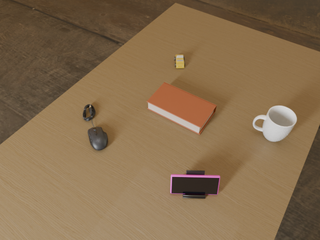book: (147, 82, 217, 135)
cup: (253, 106, 297, 142)
mouse: (88, 127, 108, 150)
phone: (171, 174, 220, 194)
toy_car: (174, 55, 185, 68)
